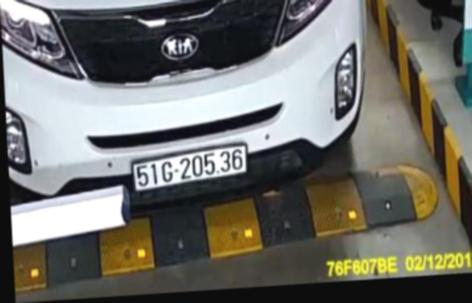License_Plate: (133, 149, 248, 190)
